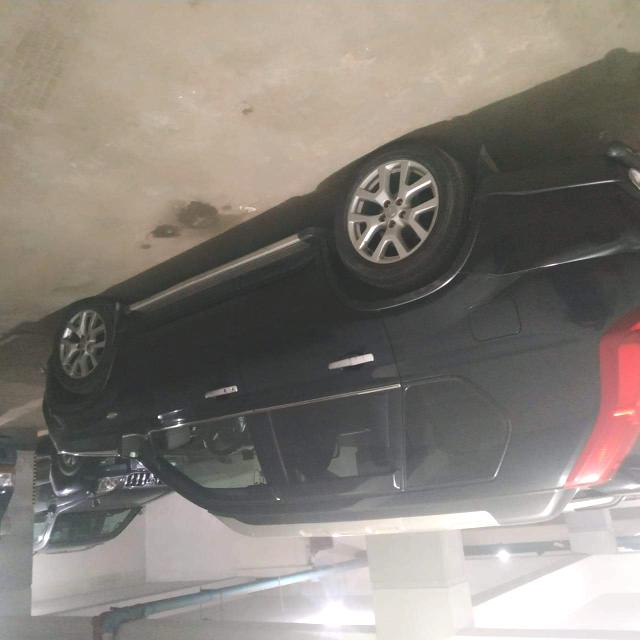black: (40, 167, 635, 534)
